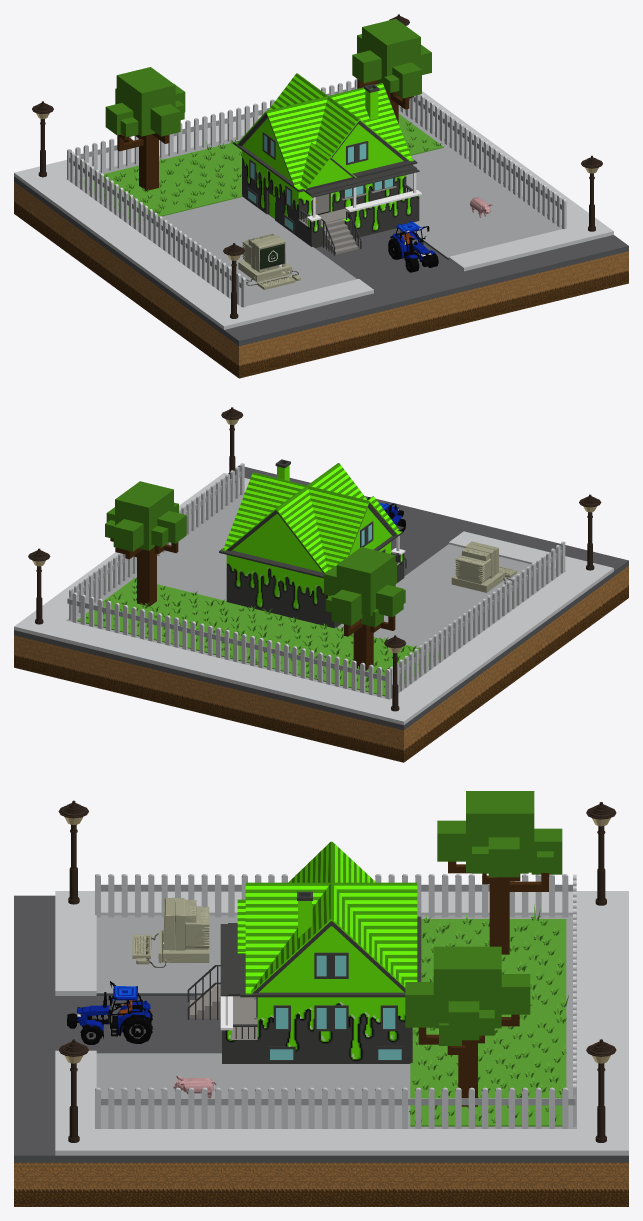
3 renders of one model, top to bottom at view 1: azimuth 30°, elevation 25°; view 2: azimuth 150°, elevation 25°; view 3: azimuth 270°, elevation 25°, orthographic. The views are drawn at different scales.
Parts seen in each view (by area): view 1: Cube.004, Cube.754, OBJRANDOM_RETRO_PC, VEHICLES_TRACTOR; view 2: Cube.004, Cube.754, OBJRANDOM_RETRO_PC; view 3: Cube.004, Cube.754, OBJRANDOM_RETRO_PC, VEHICLES_TRACTOR.
Boxes of the visible parts, box(x1,y1,x2,y2) form: Cube.004: box(14, 14, 628, 378); Cube.754: box(233, 73, 421, 255); OBJRANDOM_RETRO_PC: box(238, 233, 300, 289); VEHICLES_TRACTOR: box(388, 221, 438, 272); Cube.004: box(14, 407, 628, 762); Cube.754: box(219, 459, 406, 628); OBJRANDOM_RETRO_PC: box(451, 541, 516, 592); Cube.004: box(14, 791, 628, 1206); Cube.754: box(187, 841, 421, 1063); OBJRANDOM_RETRO_PC: box(132, 897, 209, 967); VEHICLES_TRACTOR: box(67, 981, 152, 1044).
Bounding box in the file's own units: 4000 × 1622 × 4000.
33 materials, 5 textured.
